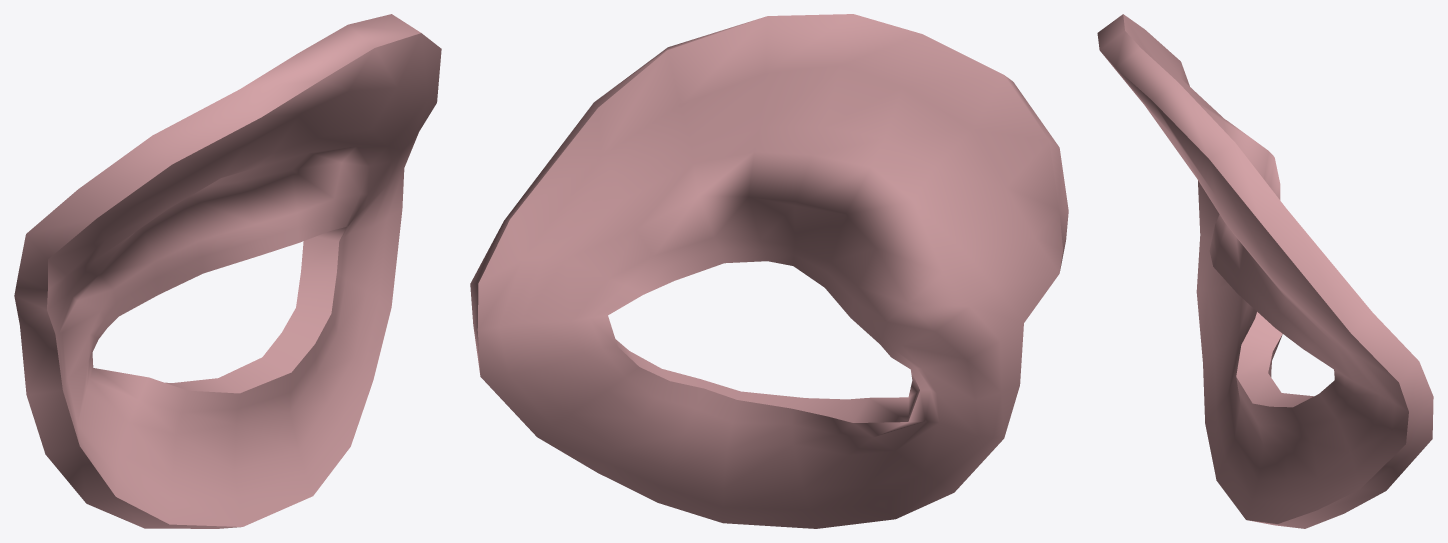
3 views of the same model, side by side, from view 1: azimuth 30°, elevation 25°; view 2: azimuth 150°, elevation 25°; view 3: azimuth 270°, elevation 25° (orthographic). The views are drawn at different scales.
Parts seen in each view (by area): view 1: ZA_2a8eb040ea4344ef; view 2: ZA_2a8eb040ea4344ef; view 3: ZA_2a8eb040ea4344ef.
Boxes of the visible parts, x1,y1,x2,y2 form: ZA_2a8eb040ea4344ef: (14,14,441,528); ZA_2a8eb040ea4344ef: (470,14,1068,528); ZA_2a8eb040ea4344ef: (1097,14,1433,528).
Size of the model in its own units: 0.0491 by 0.0462 by 0.0313.
